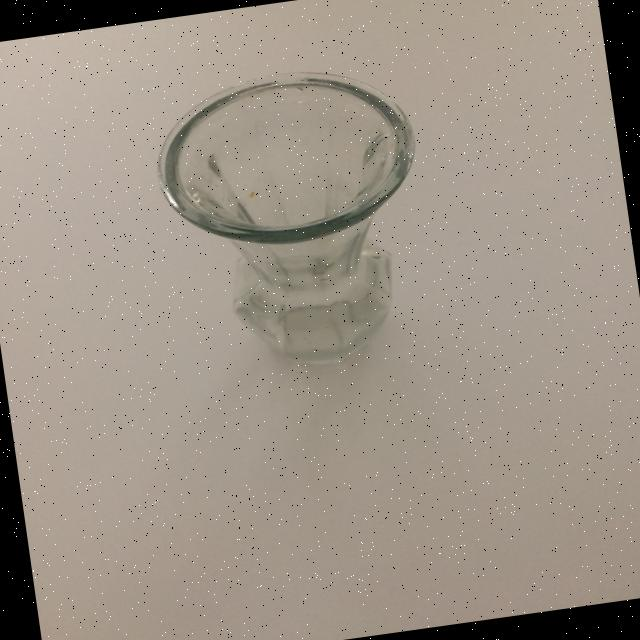glass: (144, 53, 448, 384)
